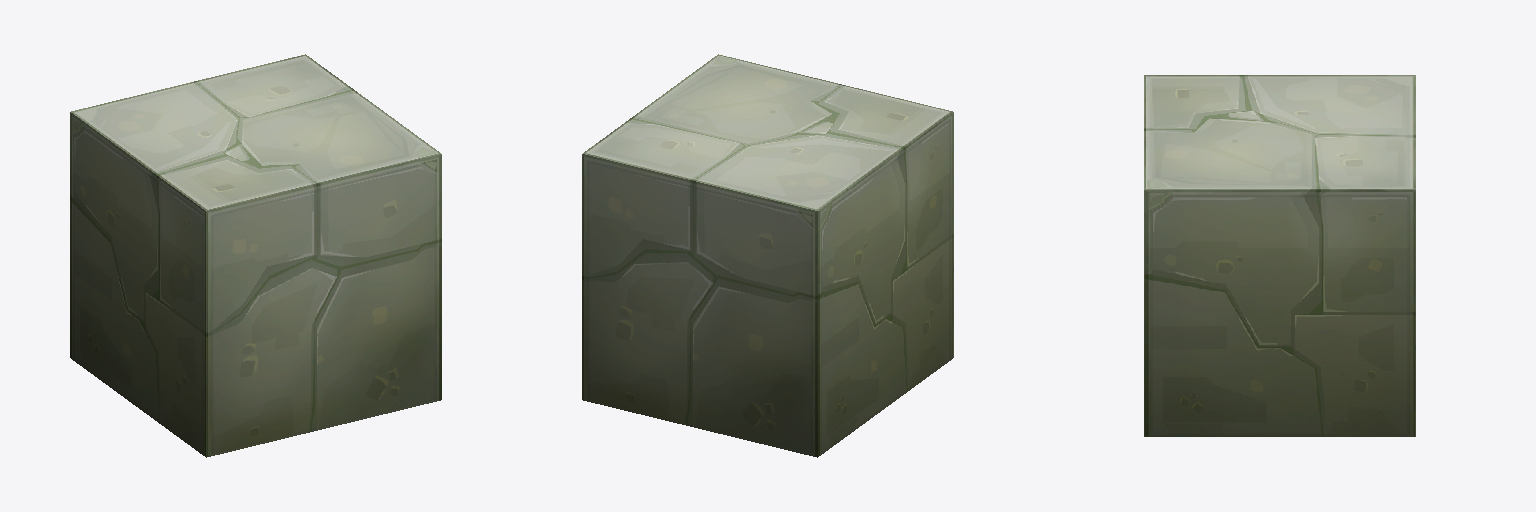
The picture shows the model from 3 angles: view 1: azimuth 30°, elevation 25°; view 2: azimuth 150°, elevation 25°; view 3: azimuth 270°, elevation 25°; orthographic projection.
Visible parts, largest first — view 1: Cube; view 2: Cube; view 3: Cube.
Boxes of the visible parts, <box> form: Cube: <box>70,54,441,457</box>; Cube: <box>582,54,953,457</box>; Cube: <box>1144,75,1415,436</box>.
Size of the model in its own units: 2 by 2 by 2.
1 materials, 1 textured.